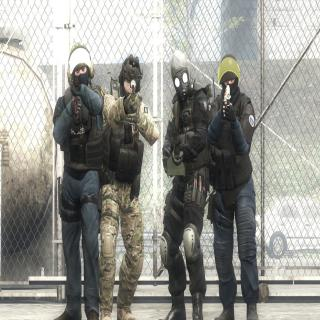CT-Body: (53, 39, 104, 320), (97, 52, 150, 320), (158, 49, 210, 320), (211, 50, 256, 320)
CT-Head: (69, 40, 92, 93), (119, 54, 142, 103), (170, 49, 190, 104), (218, 52, 239, 100)
